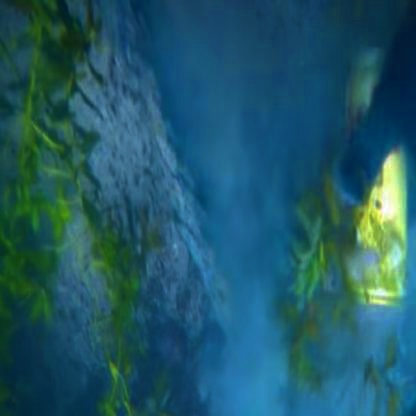can: (340, 52, 412, 315)
